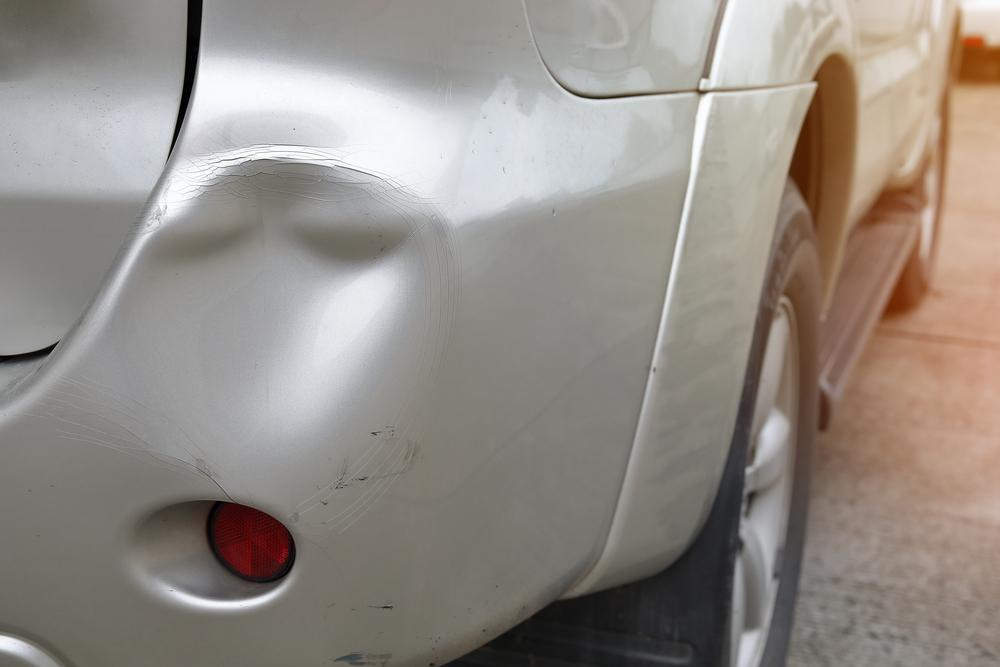dent: (112, 159, 426, 474)
